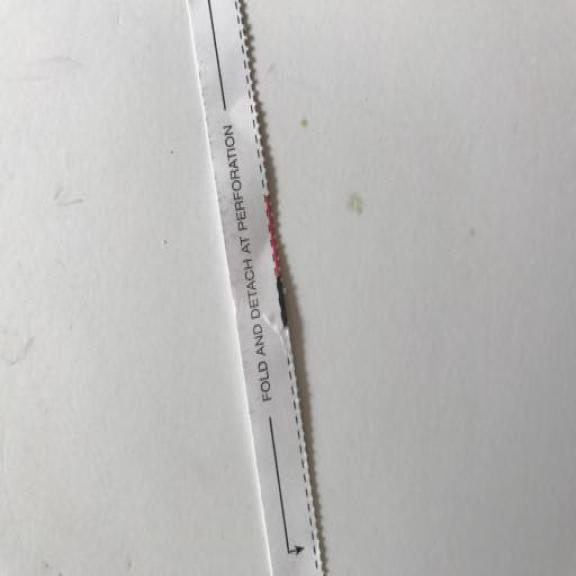Kertas: (180, 0, 328, 576)
